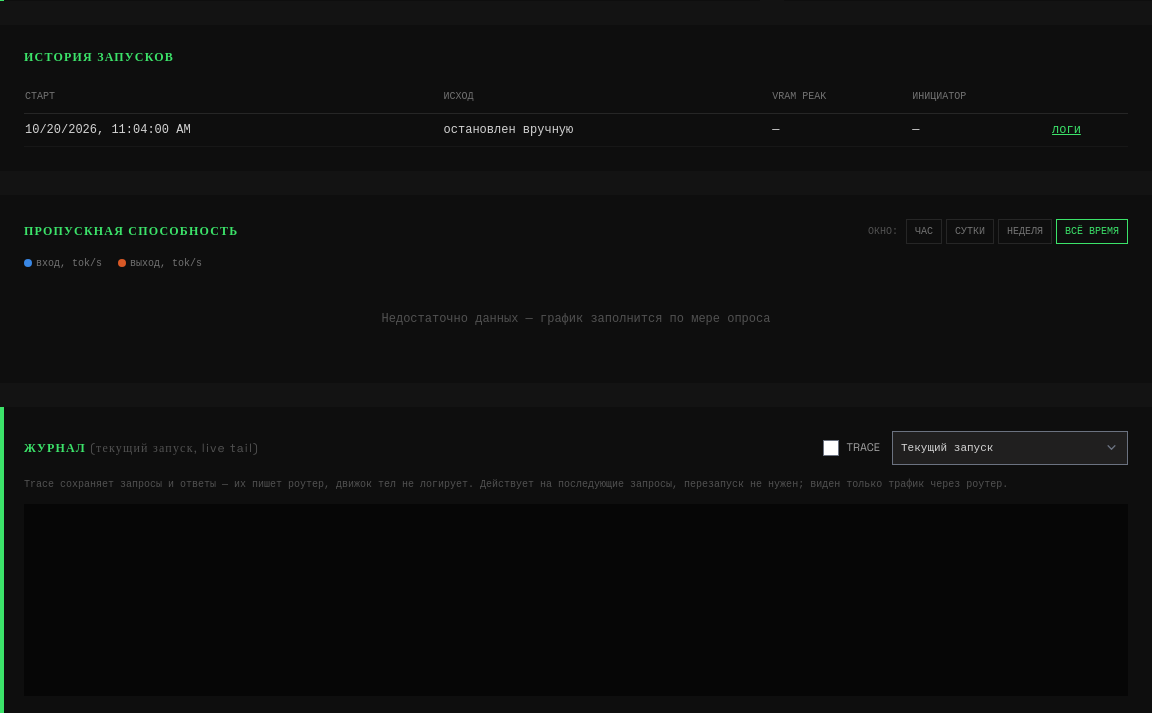
InferenceDetailPage — сохранённые запросы (trace) › показывает сохранённые запросы отдельно от журнала процесса
The width and height of the screenshot is (1152, 713).
(page scrolled)
Select "20.10.2026, 11:04:00 — остановлен" in the dropdown with test id "run-select" at (1010, 448), box [892, 430, 1128, 464]
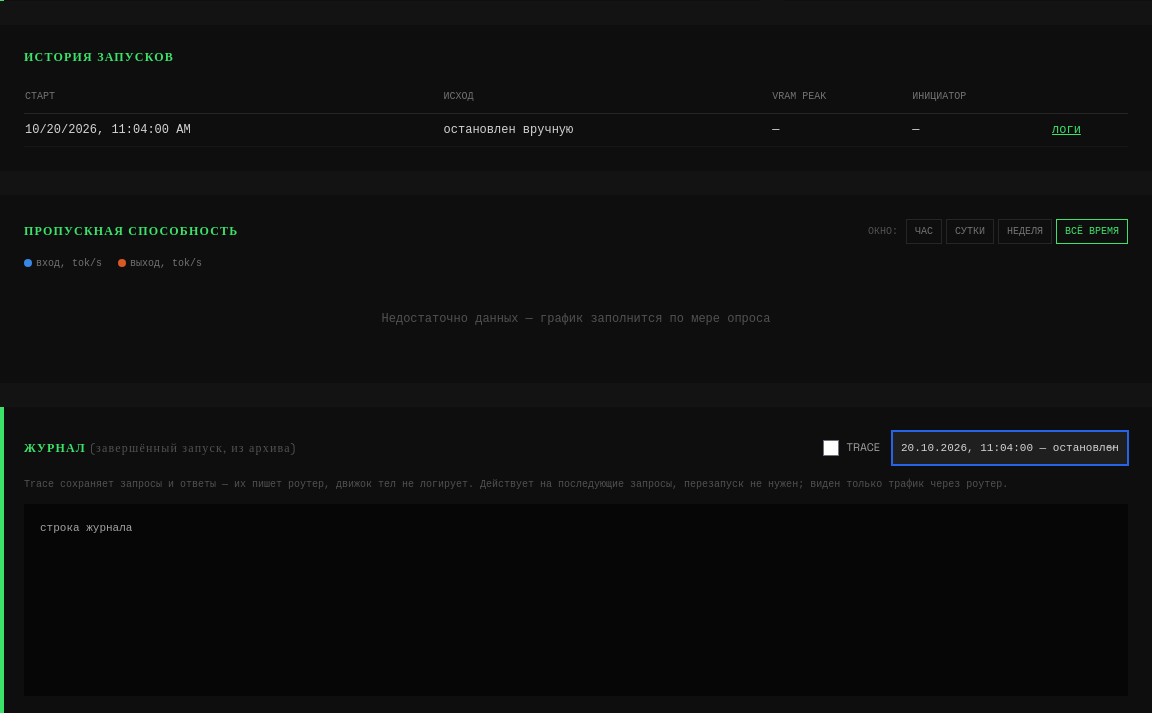
Now the text with test id "log-view" reads "строка журнала", box [40, 522, 132, 534]
